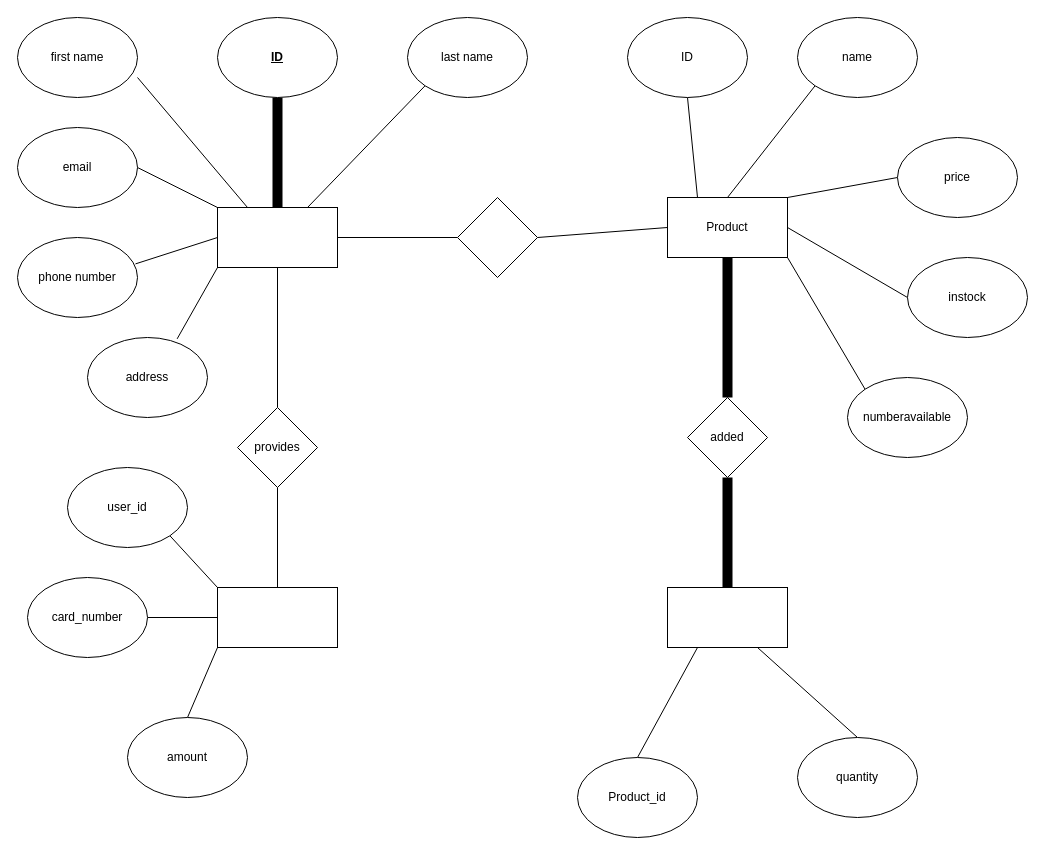
The diagram is 1045 pixels wide and 855 high, and some of its shapes have lost their labels. Here are the shapes that lost their labels. From the top down, the centre of each, then its label:
At point 277,237: "User".
At point 497,237: "viewed".
At point 277,617: "Payment_Info".
At point 727,617: "Cart".
